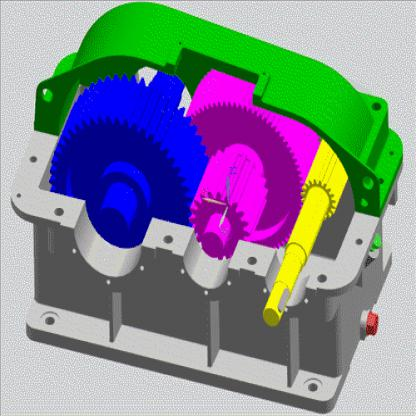FOD: (41, 75, 209, 210), (189, 144, 269, 260)
